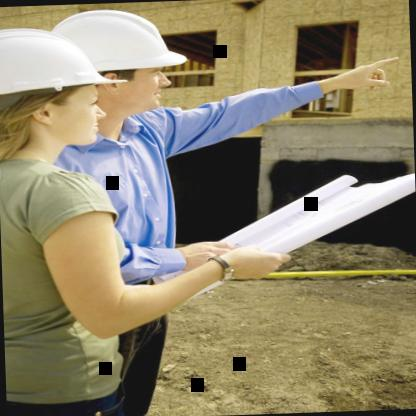helmet: (0, 22, 134, 157), (41, 3, 187, 126)
